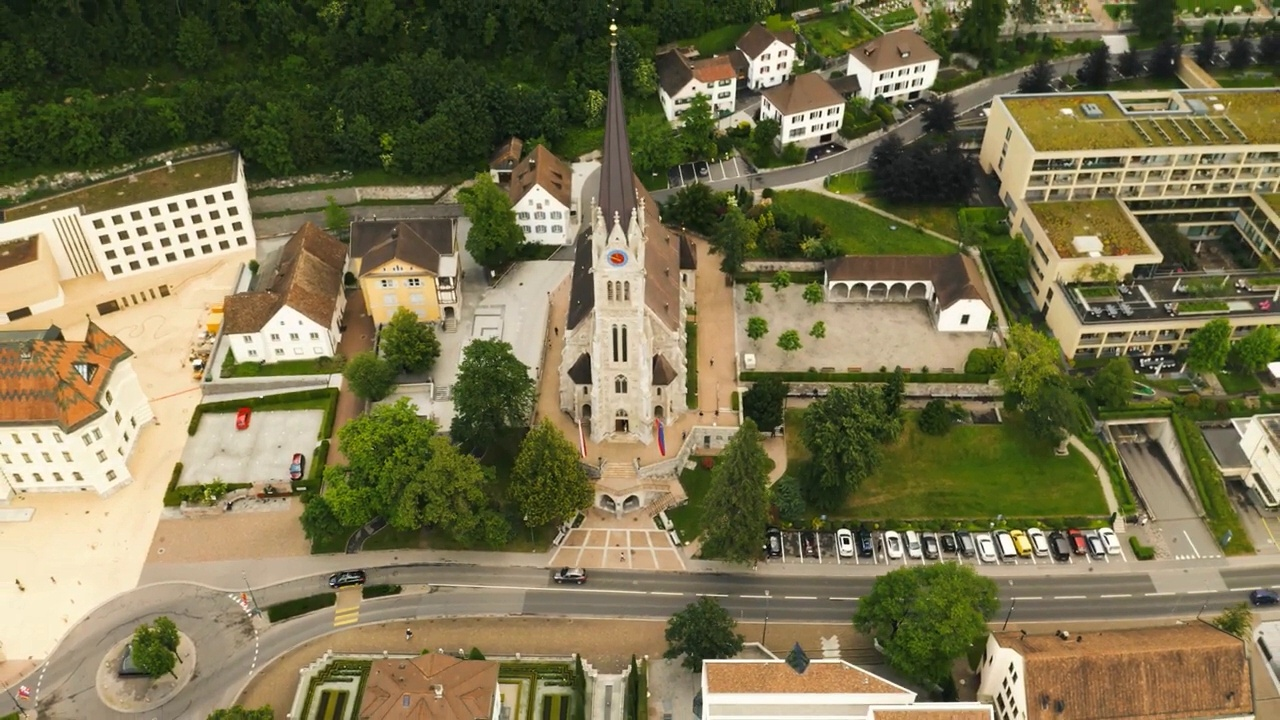araba: (1026, 523, 1054, 560), (994, 527, 1020, 560), (922, 526, 944, 564), (1047, 530, 1073, 560), (1068, 526, 1093, 557), (1011, 527, 1035, 559), (1088, 527, 1110, 560), (858, 525, 877, 561), (329, 570, 365, 588), (1102, 527, 1125, 555), (552, 565, 589, 582), (978, 532, 997, 565), (886, 528, 904, 561), (837, 527, 855, 559), (959, 530, 978, 559), (905, 532, 924, 557), (942, 530, 957, 555)
